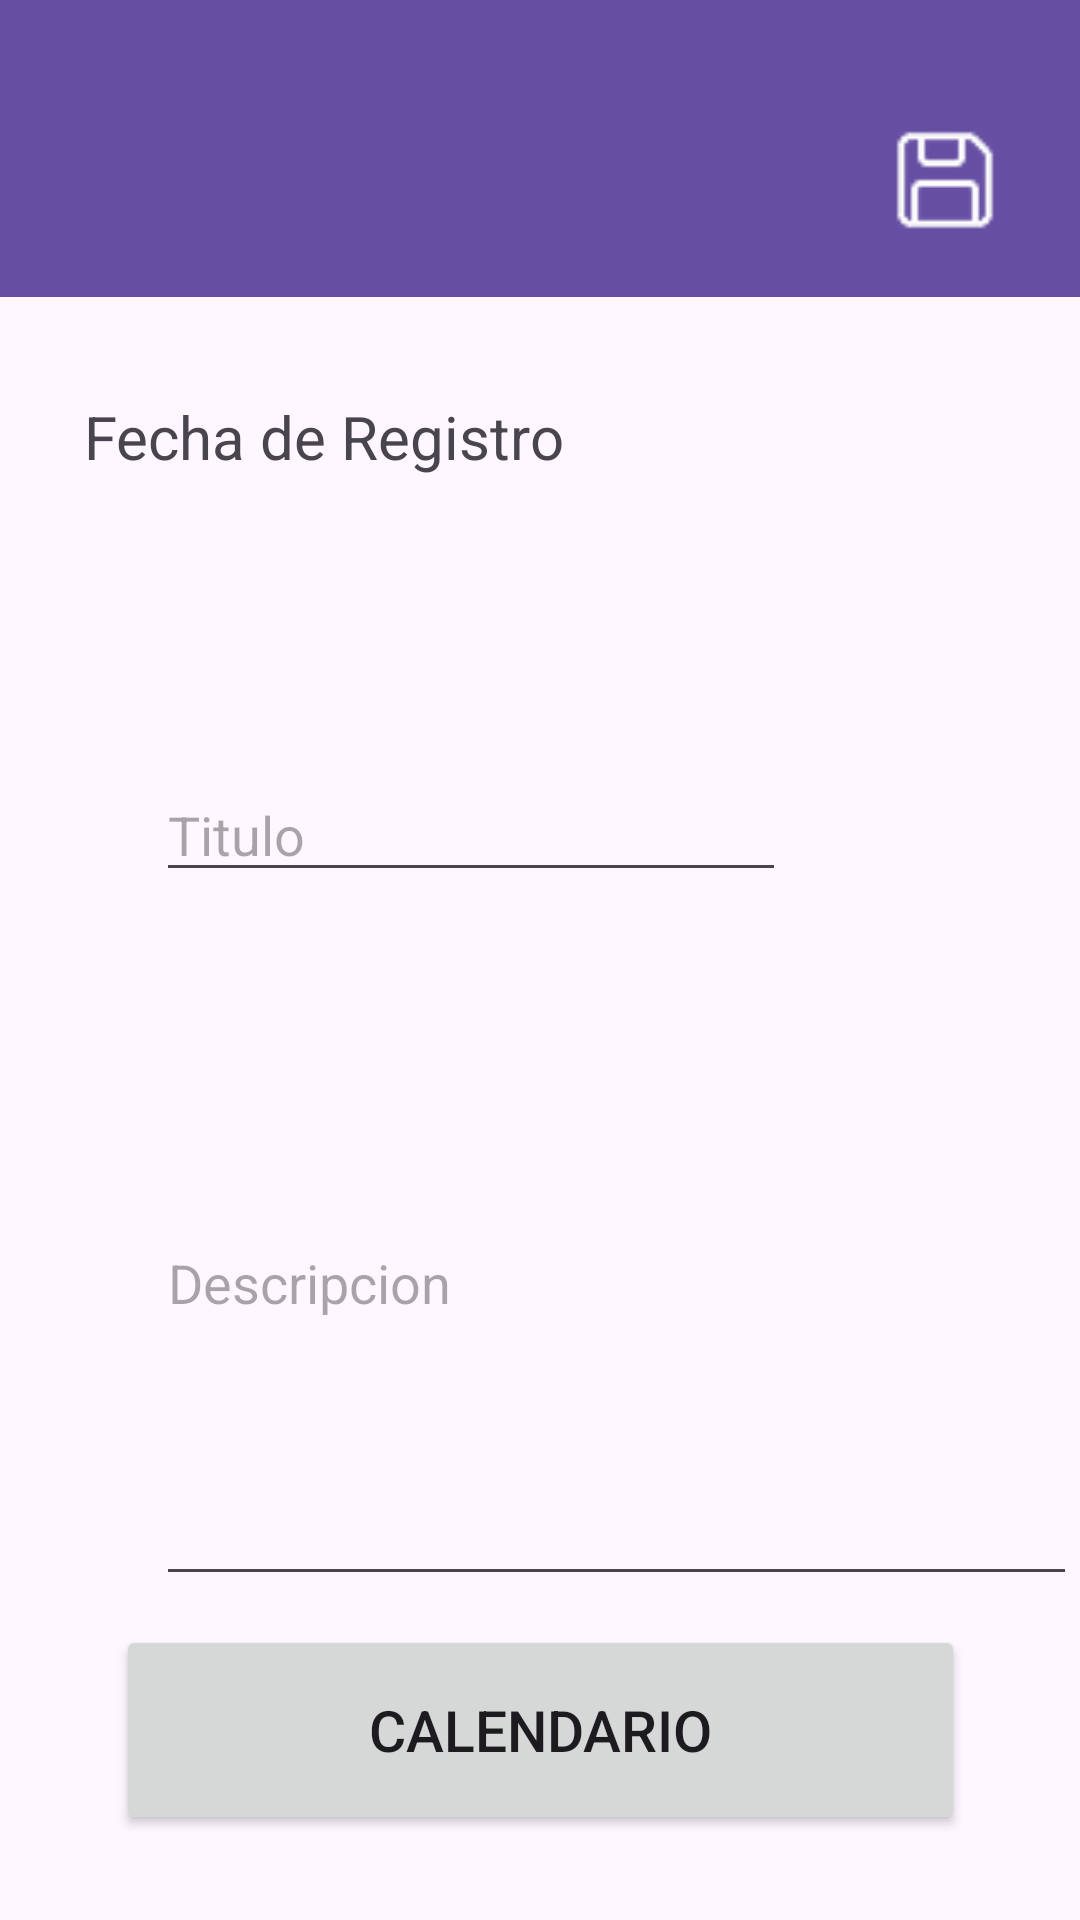

Where icons sit on this 1080*1920 app screen, as BBox(x1, y1, x2, y2):
guardar: BBox(896, 131, 994, 229)
